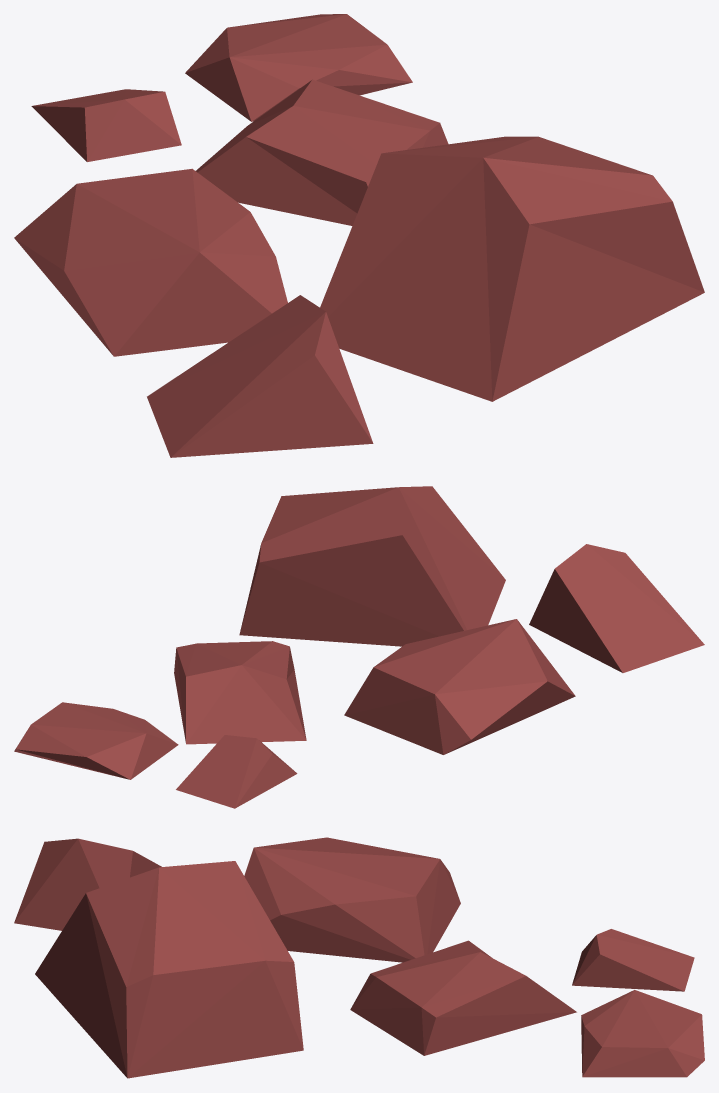
The model's file is RAS_Stone01.fbx.
3 renders of one model, top to bottom at view 1: azimuth 30°, elevation 25°; view 2: azimuth 150°, elevation 25°; view 3: azimuth 270°, elevation 25°, orthographic. The views are drawn at different scales.
Parts seen in each view (by area): view 1: RAS_Stone01; view 2: RAS_Stone01; view 3: RAS_Stone01.
Boxes of the visible parts, <box> form: RAS_Stone01: <box>14,14,704,457</box>; RAS_Stone01: <box>14,486,704,808</box>; RAS_Stone01: <box>14,837,704,1078</box>.
Size of the model in its own units: 36.83 by 10.46 by 49.03.
Materials: 1 (1 with a texture image).
